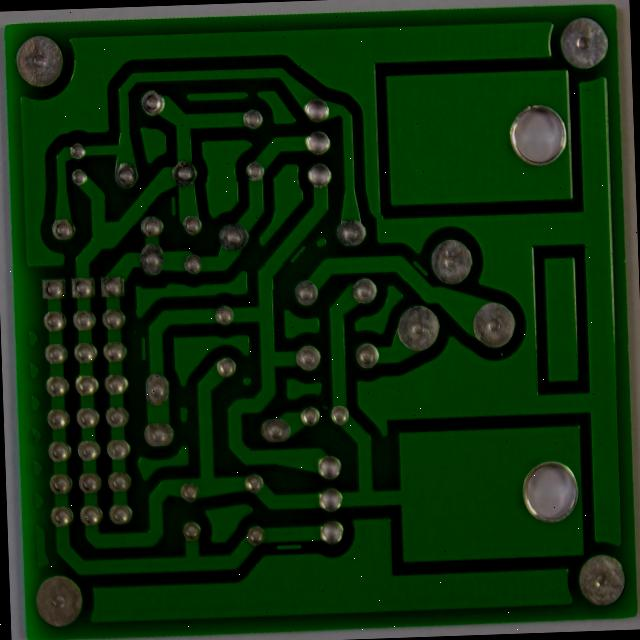spurious_copper: (390, 281, 420, 306), (245, 589, 283, 608), (262, 263, 286, 290), (97, 365, 115, 396), (132, 208, 148, 238)
